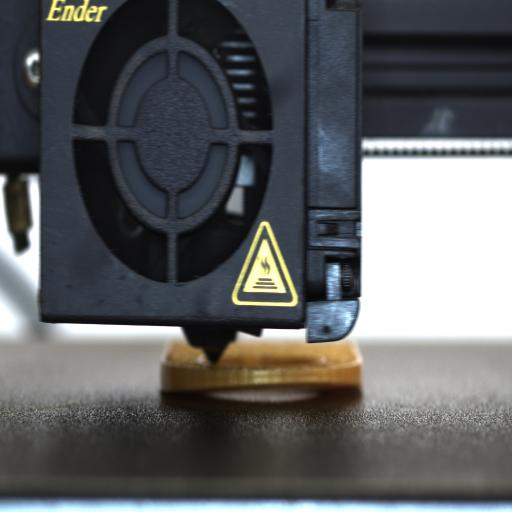warp: (174, 377, 356, 399)
